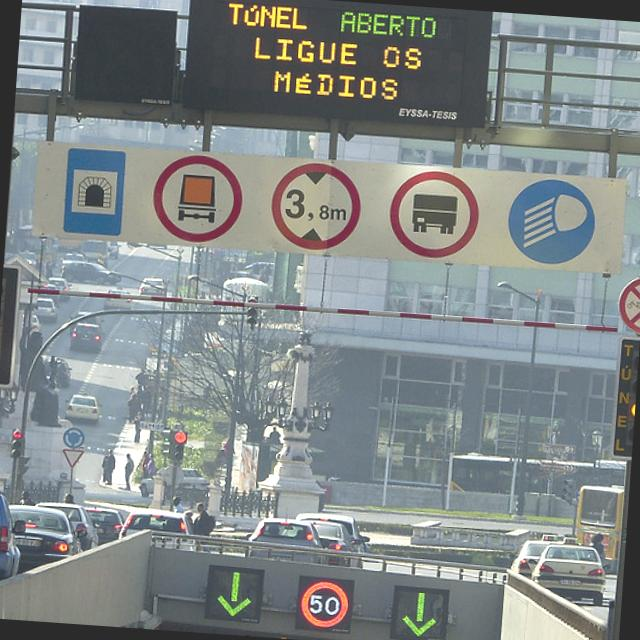Vehicle: (0, 0, 640, 633), (570, 481, 629, 575), (2, 504, 86, 569), (530, 542, 610, 608), (29, 498, 102, 550), (246, 518, 324, 562), (116, 504, 198, 544), (294, 511, 372, 553), (508, 530, 576, 578), (298, 519, 361, 567), (138, 464, 212, 502), (60, 260, 121, 286), (82, 507, 124, 544), (62, 392, 100, 426), (70, 321, 106, 354)
